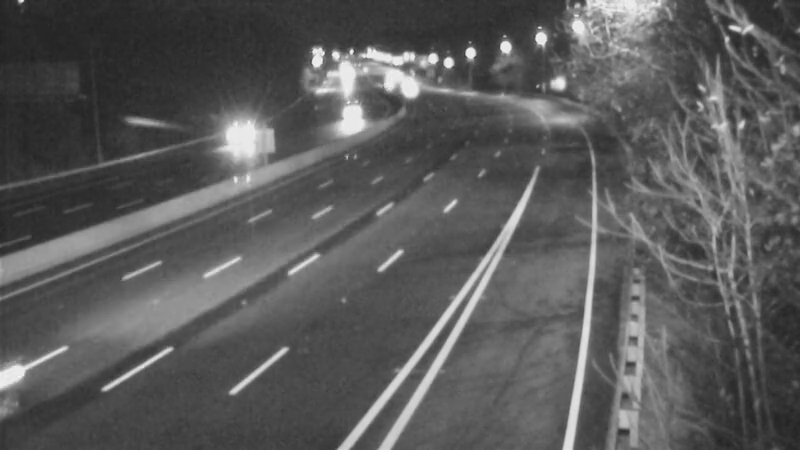vehicle: (382, 66, 432, 116), (216, 115, 266, 165), (322, 88, 372, 138)
